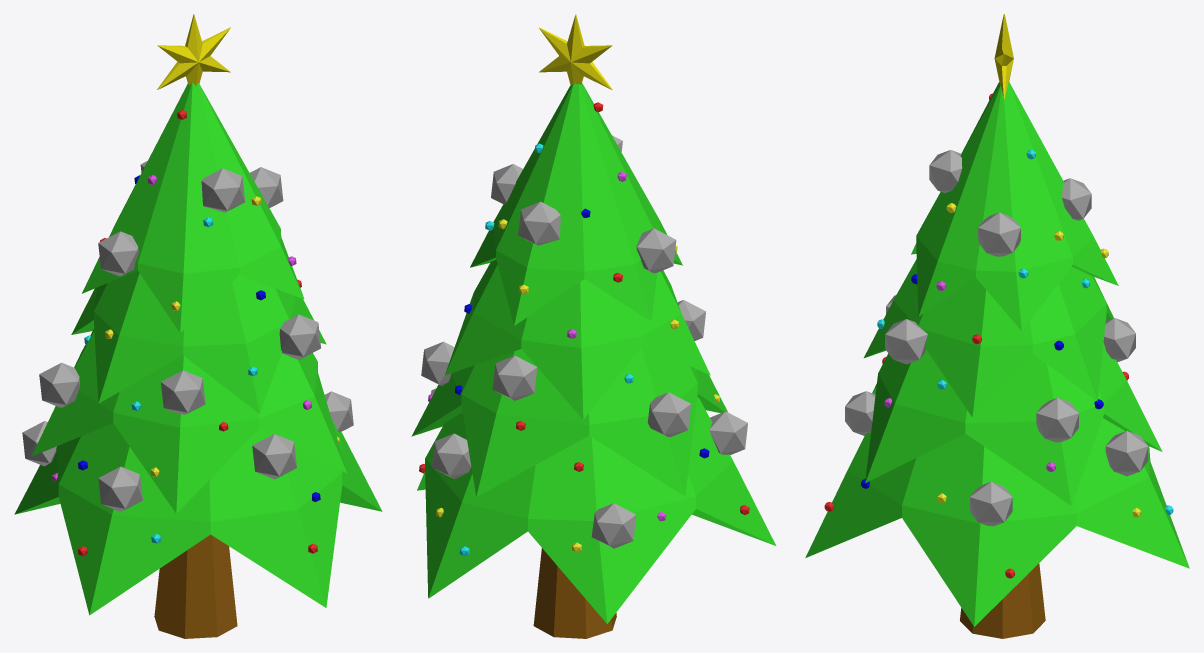
The model's file is Tree_2.fbx.
3 renders of one model, left to right at view 1: azimuth 30°, elevation 25°; view 2: azimuth 150°, elevation 25°; view 3: azimuth 270°, elevation 25°, orthographic.
Parts seen in each view (by area): view 1: Cylinder.002; view 2: Cylinder.002; view 3: Cylinder.002.
Part boxes in pixels (x1,y1,x2,y2): Cylinder.002: (14,14,382,638); Cylinder.002: (411,14,776,638); Cylinder.002: (805,14,1189,638).
Bounding box in the file's own units: 2039 × 3625 × 2085.
